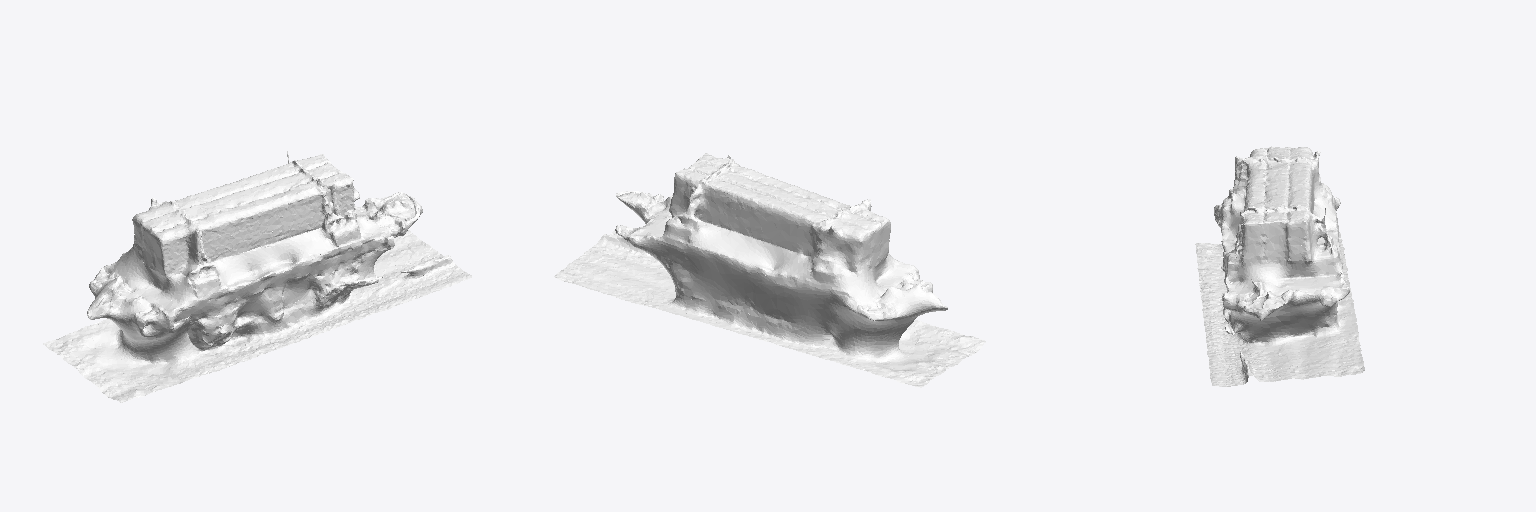
Rendered from wagon.obj.
3 renders of one model, left to right at view 1: azimuth 30°, elevation 25°; view 2: azimuth 150°, elevation 25°; view 3: azimuth 270°, elevation 25°, orthographic.
Size of the model in its own units: 26.6 by 10.46 by 10.66.